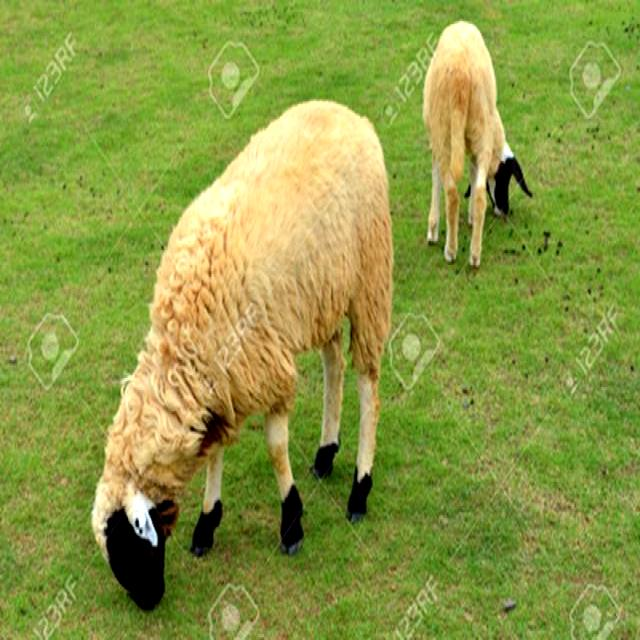sheep: (91, 100, 390, 612)
